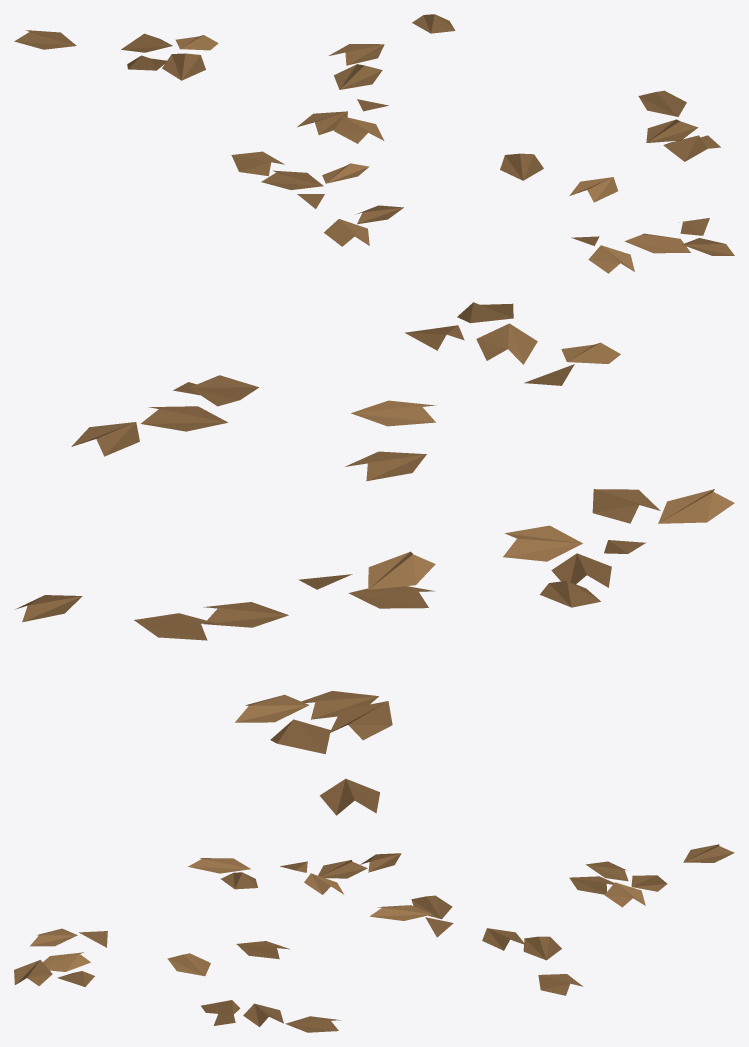
File: Env_Leaves_02.glb
The picture shows the model from 3 angles, top to bottom: view 1: azimuth 30°, elevation 25°; view 2: azimuth 150°, elevation 25°; view 3: azimuth 270°, elevation 25°; orthographic projection. The views are drawn at different scales.
Visible parts, largest first — view 1: SM_Gen_Env_Leaves_02; view 2: SM_Gen_Env_Leaves_02; view 3: SM_Gen_Env_Leaves_02.
Part boxes in pixels (bbox=[...]): SM_Gen_Env_Leaves_02: bbox=[14, 14, 734, 273]; SM_Gen_Env_Leaves_02: bbox=[15, 302, 734, 815]; SM_Gen_Env_Leaves_02: bbox=[14, 844, 734, 1032].
Bounding box in the file's own units: 1.77 × 0.0471 × 2.84.
Materials: 1 (1 with a texture image).
